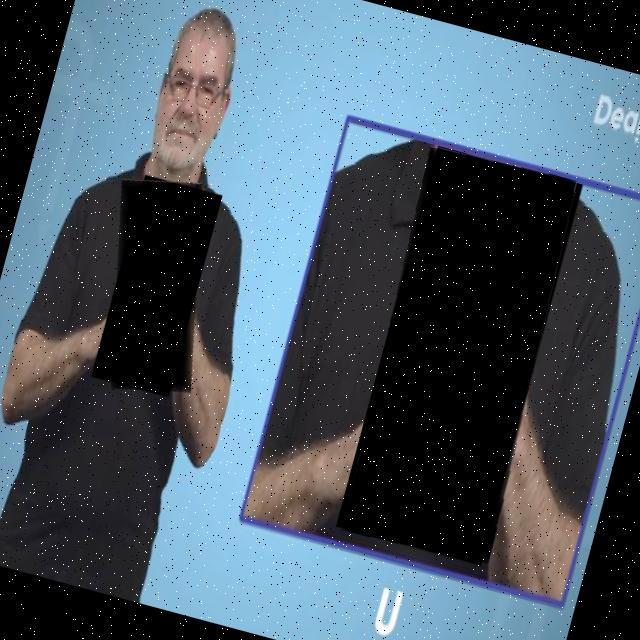U: (333, 143, 588, 568), (81, 170, 234, 404)
